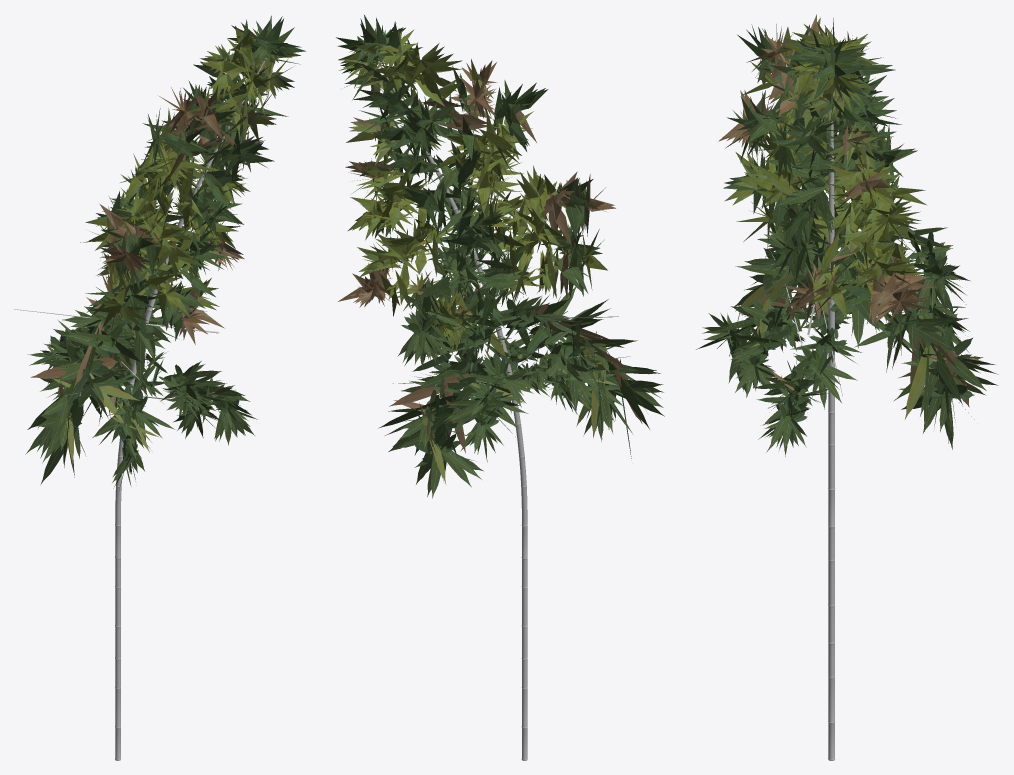
The model's file is MS_Bamboo_a2_lod_2.fbx.
3 views of the same model, side by side, from view 1: azimuth 30°, elevation 25°; view 2: azimuth 150°, elevation 25°; view 3: azimuth 270°, elevation 25° (orthographic). The views are drawn at different scales.
Visible parts, largest first — view 1: polySurface2; view 2: polySurface2; view 3: polySurface2.
Boxes of the visible parts, <box> form: polySurface2: <box>14,15,306,760</box>; polySurface2: <box>336,15,664,760</box>; polySurface2: <box>696,14,998,760</box>.
Size of the model in its own units: 1937 by 1507 by 4458.
